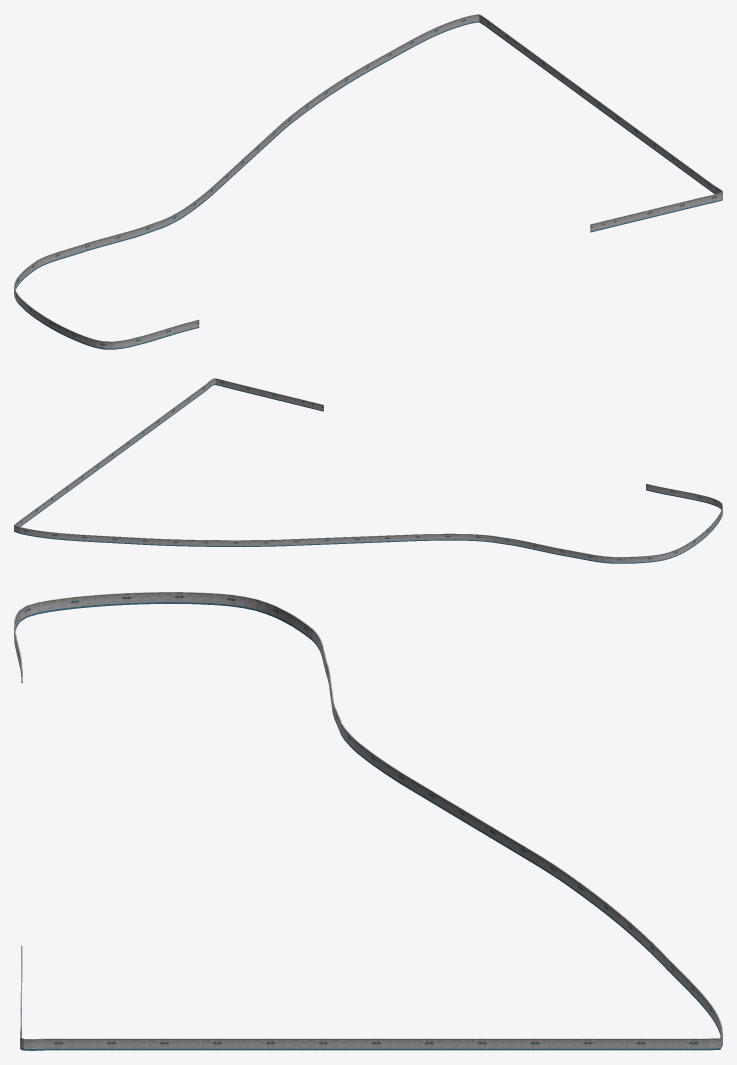
The model's file is industrial fence.fbx.
The picture shows the model from 3 angles, top to bottom: view 1: azimuth 30°, elevation 25°; view 2: azimuth 150°, elevation 25°; view 3: azimuth 270°, elevation 25°; orthographic projection. The views are drawn at different scales.
Visible parts, largest first — view 1: Cube; view 2: Cube; view 3: Cube.
Boxes of the visible parts, x1,y1,x2,y2 form: Cube: (14,14,722,349); Cube: (14,378,722,563); Cube: (14,592,722,1050).
Size of the model in its own units: 16948 by 200 by 11346.
1 material, 1 textured.
